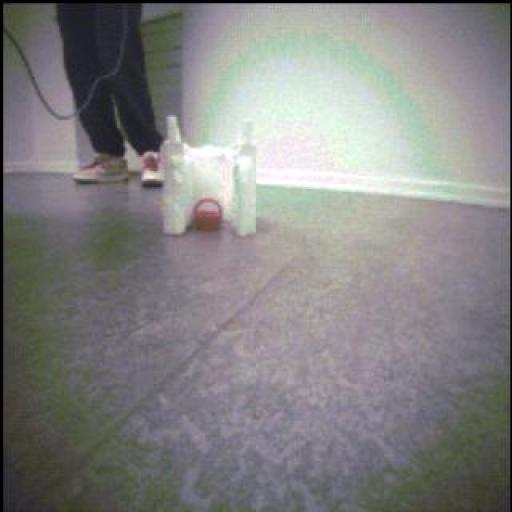Bucket: (194, 196, 225, 232)
